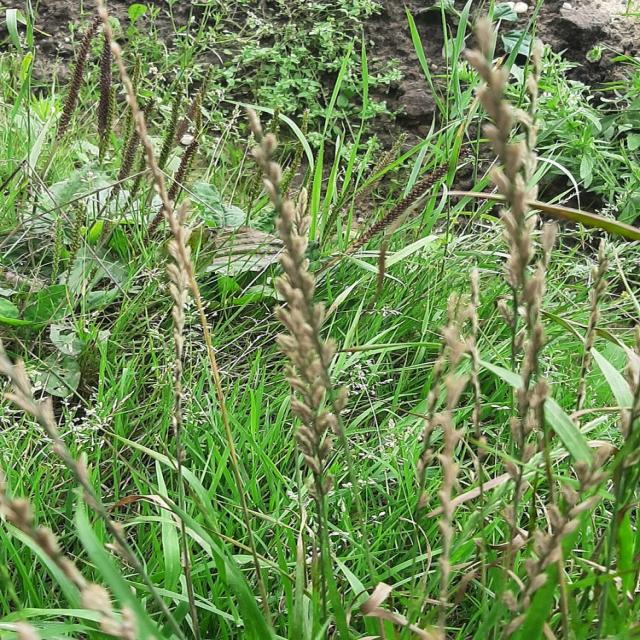Lolium: (457, 22, 561, 640), (234, 113, 335, 640), (8, 349, 158, 640), (141, 179, 207, 640), (486, 451, 616, 640), (429, 291, 486, 640)
